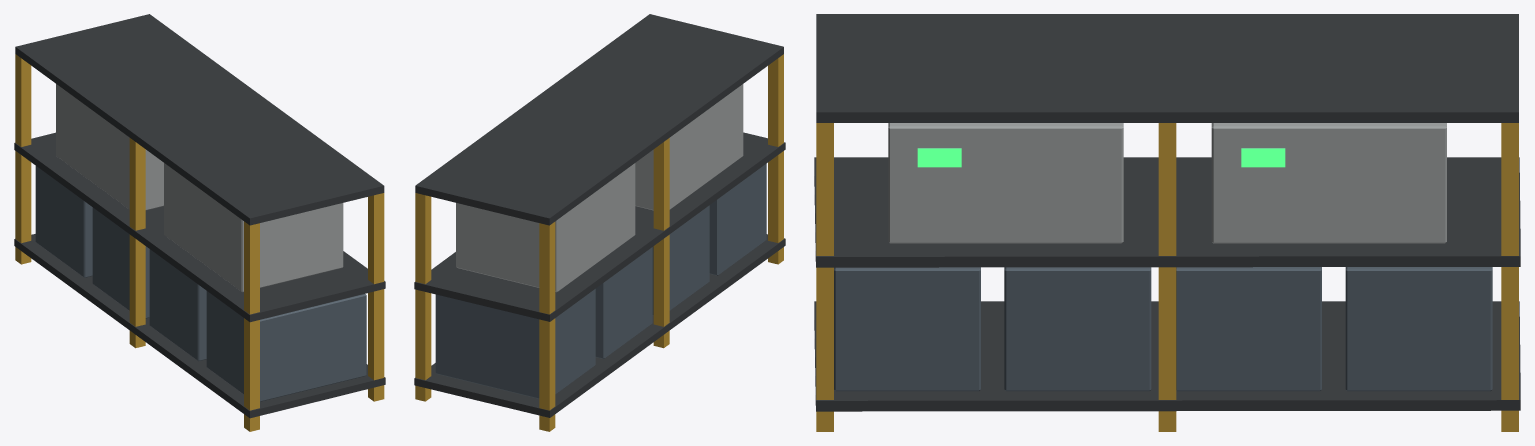
Rendered from prop_battery_rack.glb.
The picture shows the model from 3 angles, left to right: view 1: azimuth 30°, elevation 25°; view 2: azimuth 150°, elevation 25°; view 3: azimuth 270°, elevation 25°; orthographic projection. The views are drawn at different scales.
Visible parts, largest first — view 1: Rack; view 2: Rack; view 3: Rack.
Part boxes in pixels (x1=…): Rack: x1=14, y1=14, x2=385, y2=431; Rack: x1=414, y1=14, x2=785, y2=431; Rack: x1=814, y1=14, x2=1520, y2=431.
Size of what is drawn, in the model's own units: 0.801 by 1.2 by 2.4.
